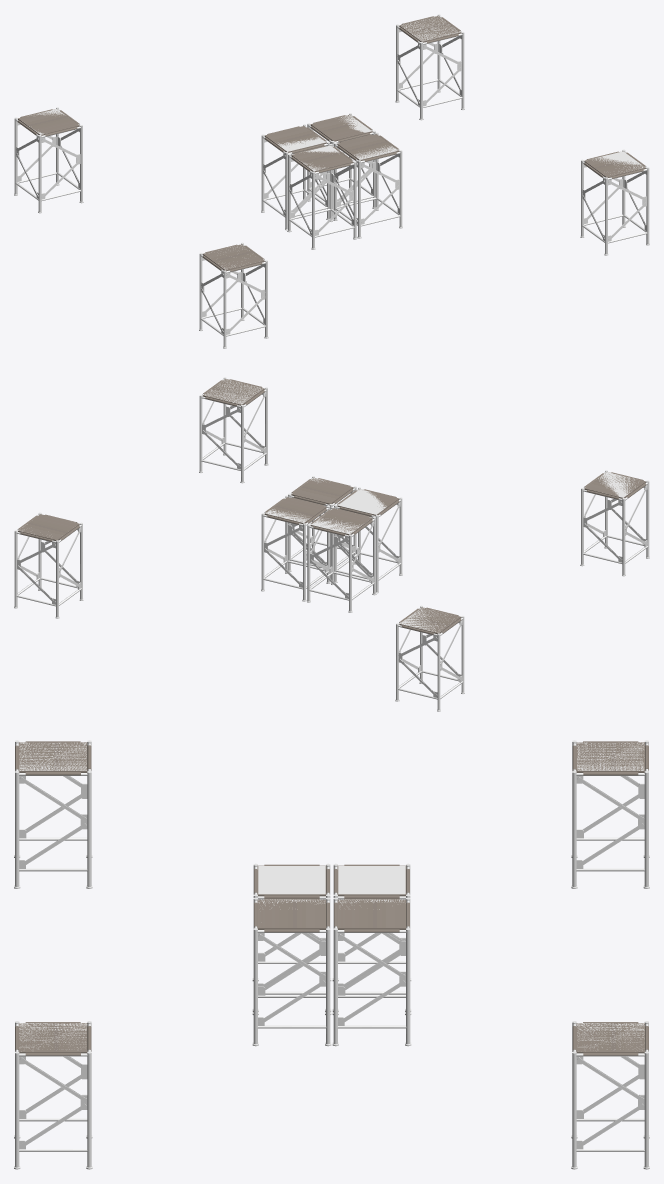
Rendered from objects_un_base_stage01_frame.gltf.
3 views of the same model, one above another, from view 1: azimuth 30°, elevation 25°; view 2: azimuth 150°, elevation 25°; view 3: azimuth 270°, elevation 25° (orthographic). The views are drawn at different scales.
Visible parts, largest first — view 1: um_objects_un_base_stage01_frame_model_lod0Shape:objects_un_ (×3); view 2: um_objects_un_base_stage01_frame_model_lod0Shape:objects_un_ (×3); view 3: um_objects_un_base_stage01_frame_model_lod0Shape:objects_un_ (×3), um_objects_un_base_stage01_frame_model_lod1Shape:objects_un_.
Part boxes in pixels (x1,y1,x2,y2): um_objects_un_base_stage01_frame_model_lod0Shape:objects_un_ (×3): [14, 14, 649, 348]; um_objects_un_base_stage01_frame_model_lod0Shape:objects_un_ (×3): [14, 377, 649, 711]; um_objects_un_base_stage01_frame_model_lod0Shape:objects_un_ (×3): [14, 740, 649, 1169]; um_objects_un_base_stage01_frame_model_lod1Shape:objects_un_: [19, 1023, 644, 1051].
Size of the model in its own units: 17.47 by 3 by 14.95.
3 materials, 1 textured.
